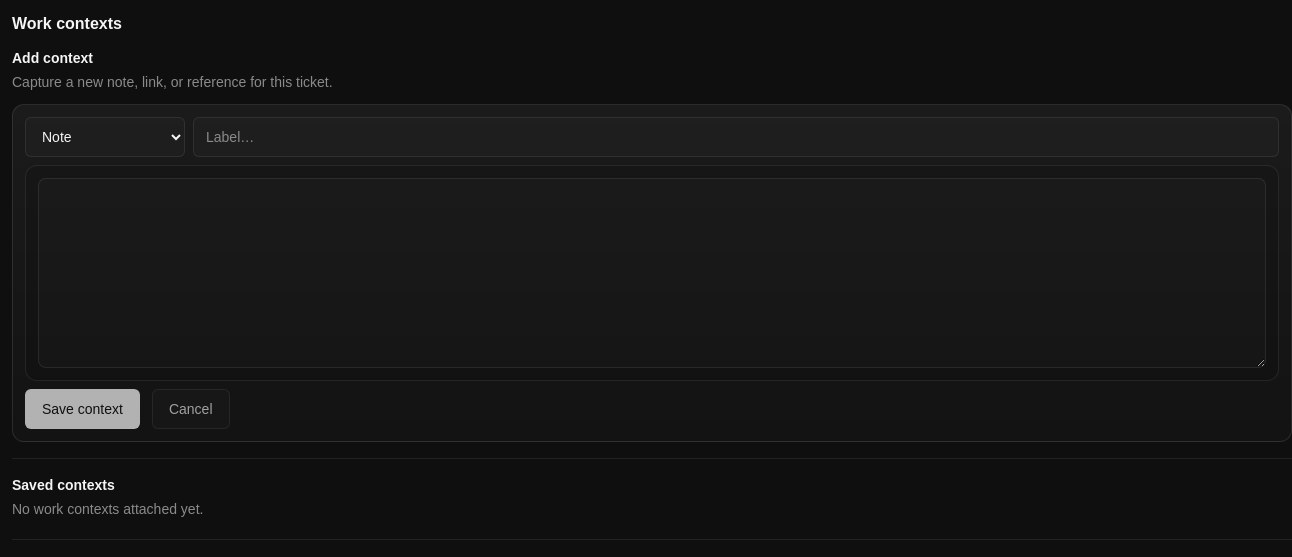
Test: WorkContextEditor › shows save and cancel actions for new work contexts
Check: the button "Save context" is disabled, box top-left (25, 389), bottom-right (140, 429)
Check: the button "Cancel" is disabled, box top-left (152, 389), bottom-right (230, 429)
In the field labelled "Label": (736, 137) top-left (193, 117), bottom-right (1279, 157), type "Draft context"
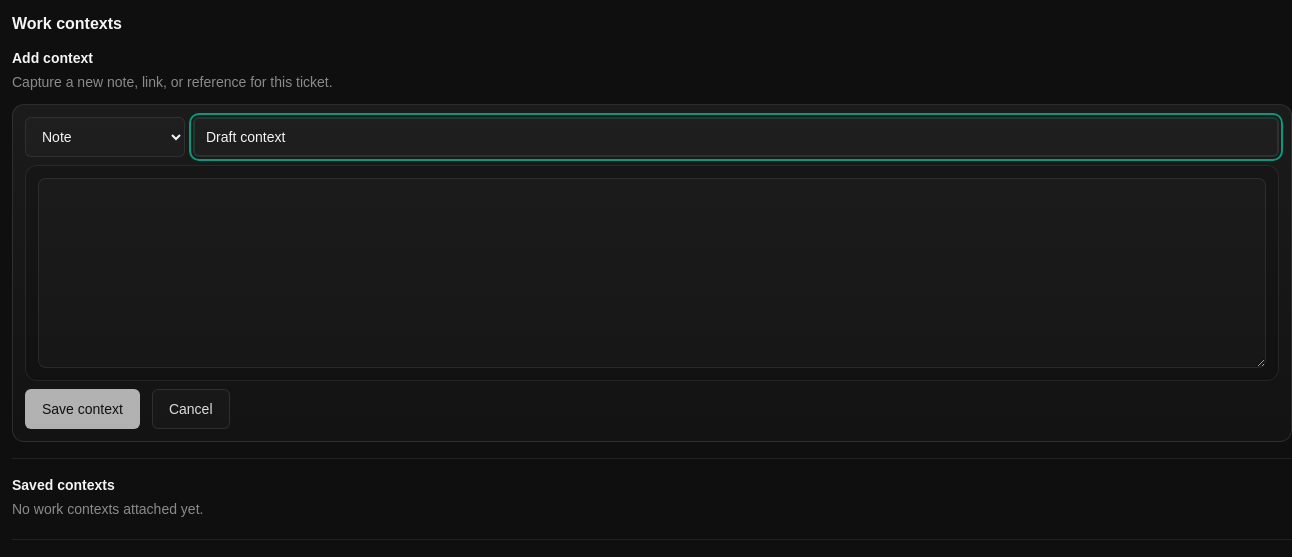
In the text box named "Note": (652, 273) top-left (38, 178), bottom-right (1266, 368), type "Draft value"
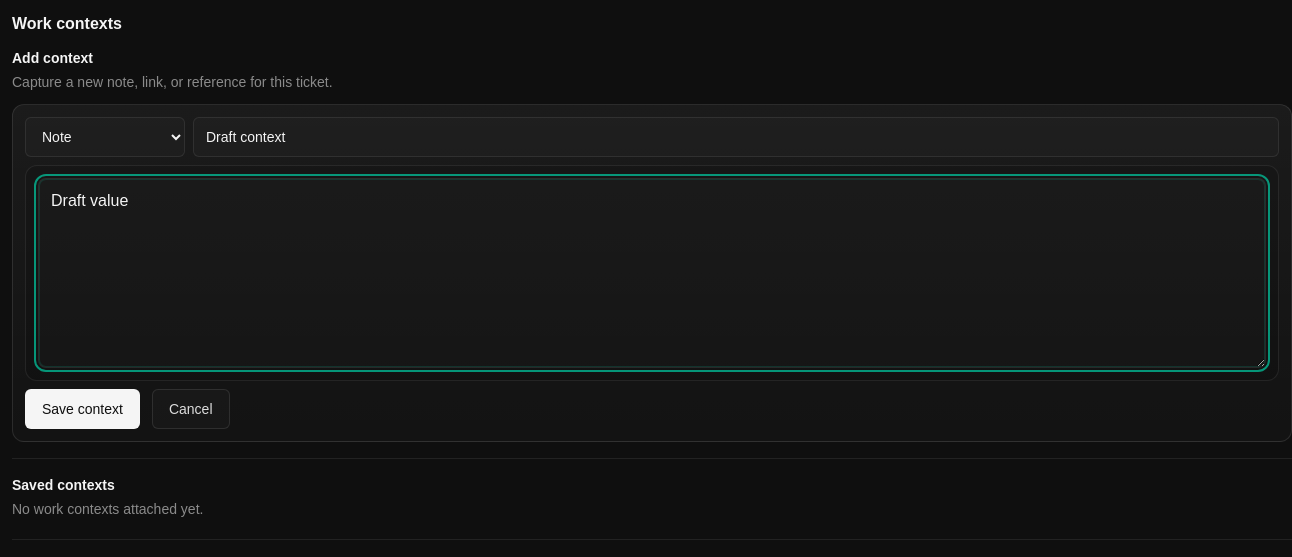
Check: the button "Cancel" is enabled, box top-left (152, 389), bottom-right (230, 429)
Check: the button "Save context" is enabled, box top-left (25, 389), bottom-right (140, 429)
